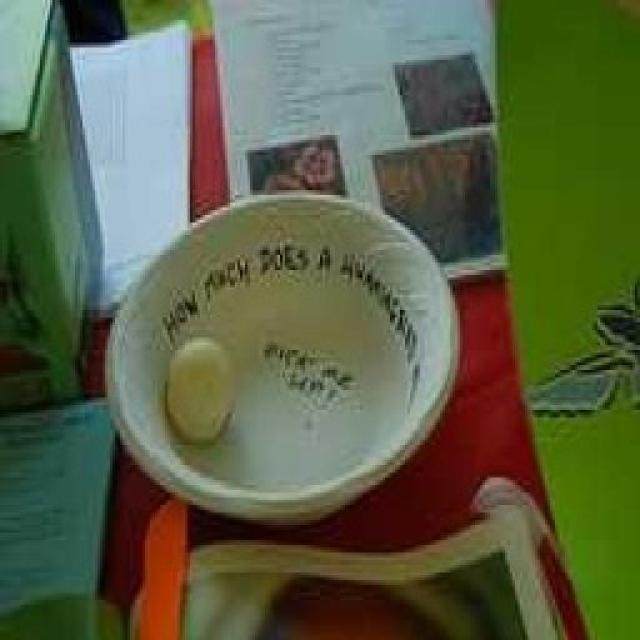oball: (165, 338, 238, 448)
